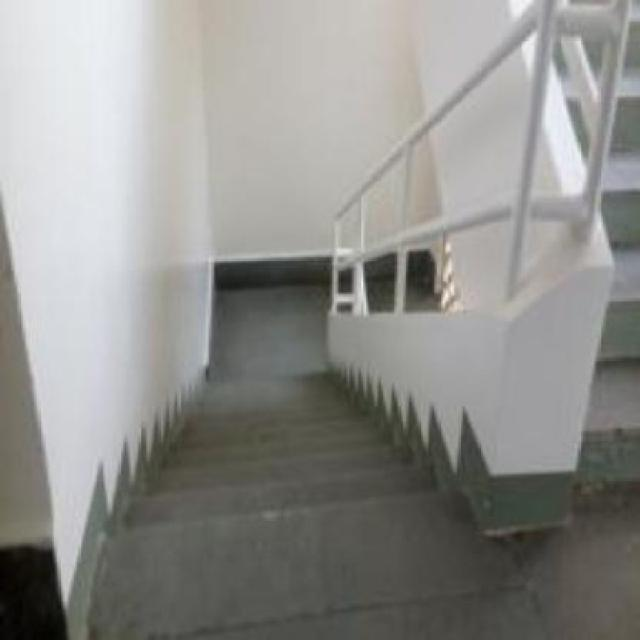stair: (94, 380, 472, 563)
